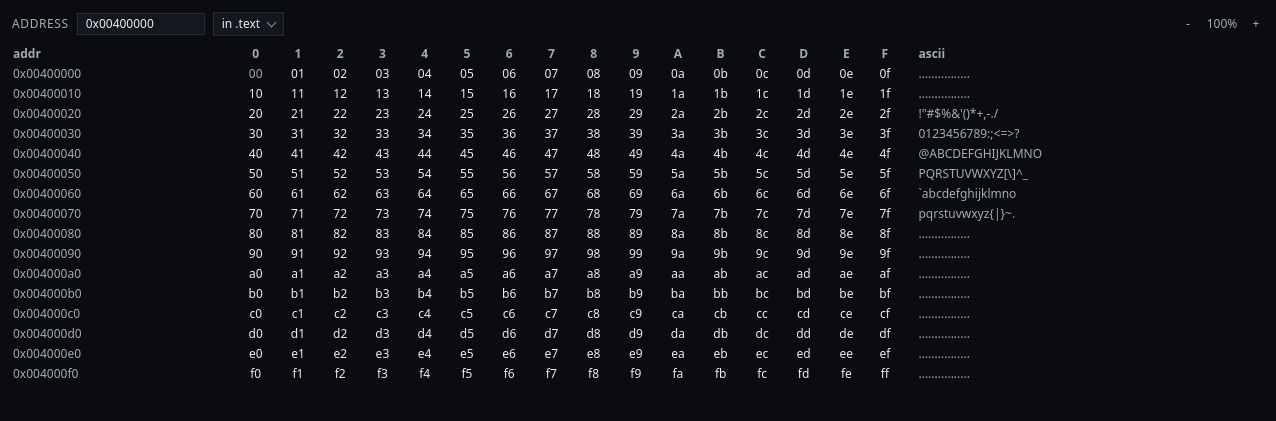
it: MemoryPanel region label › keeps naming the last good window when an address is rejected
Replace the text in the field named "memory base address" with "0x00600000": (141, 24) left=77, top=13, right=205, bottom=35
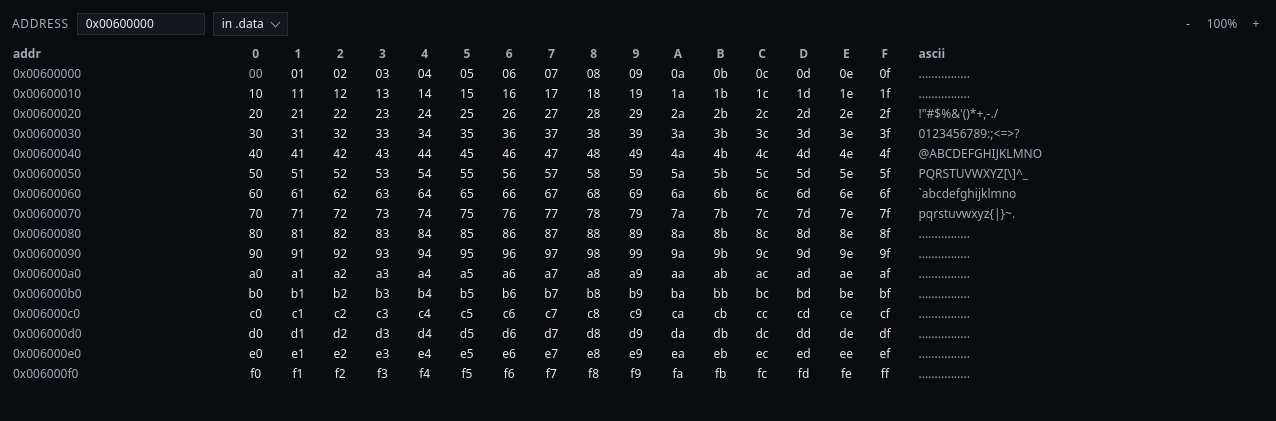
Expected: the dropdown named "jump to section" reads "in .data", left=213, top=12, right=288, bottom=36
Replace the text in the field named "memory base address" with "0x0060O000": (141, 24) left=77, top=13, right=205, bottom=35
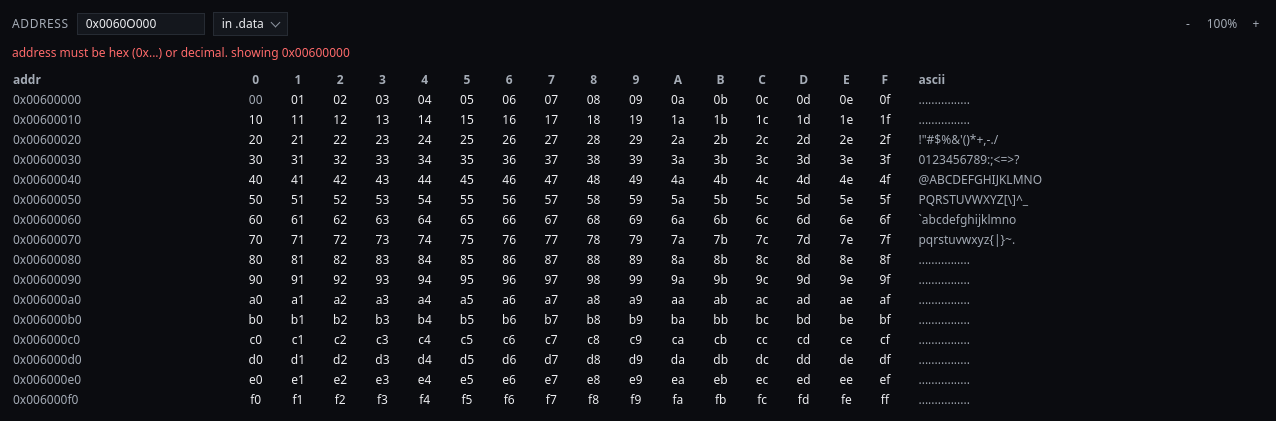
Expected: the dropdown named "jump to section" reads "in .data", left=213, top=12, right=288, bottom=36
Expected: the message "address must be hex (0x...) or decimal. showing 0x00600000" is shown, left=12, top=44, right=350, bottom=61
